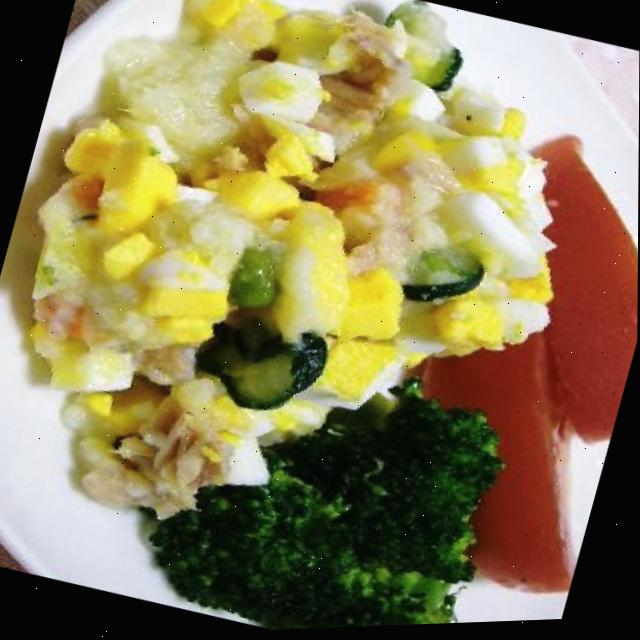蔬菜料理: (0, 0, 637, 628), (147, 47, 640, 636)
